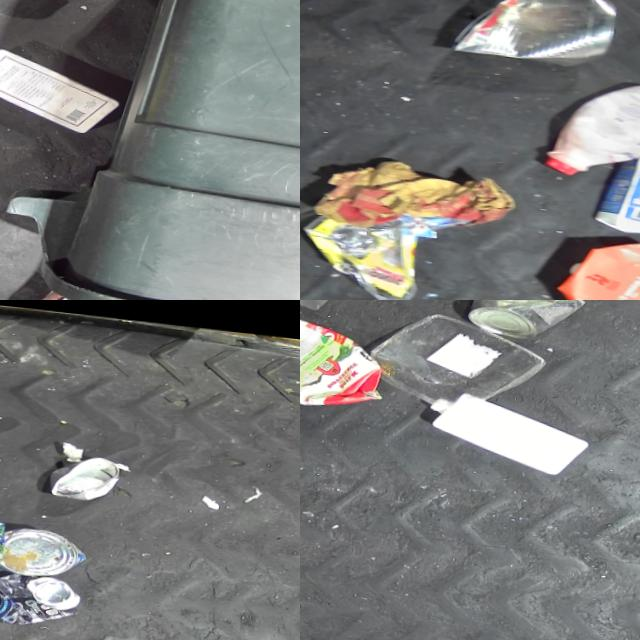can: (449, 0, 622, 62), (0, 559, 85, 623), (3, 518, 90, 573), (469, 300, 589, 339), (50, 444, 126, 497)
milk_jug: (426, 382, 595, 472), (0, 39, 128, 130)
non_white_jug: (542, 63, 640, 178), (300, 307, 397, 410), (555, 222, 640, 300), (595, 129, 640, 228)
